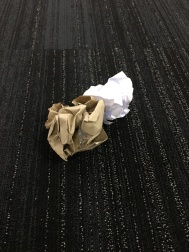paper_brown: (39, 98, 112, 158)
paper_white: (71, 63, 145, 131)
